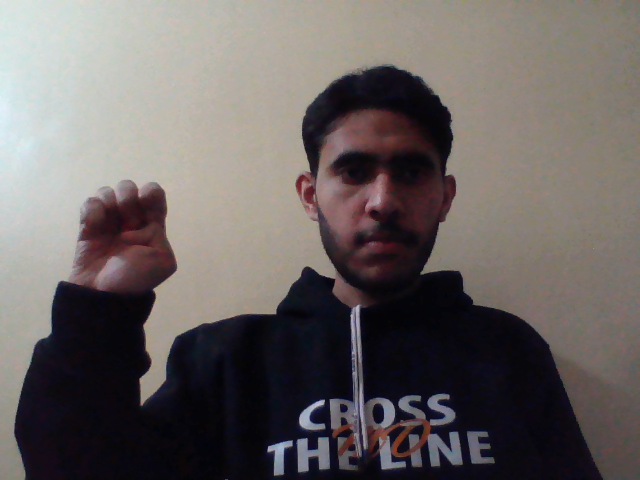E: (51, 173, 185, 300)
